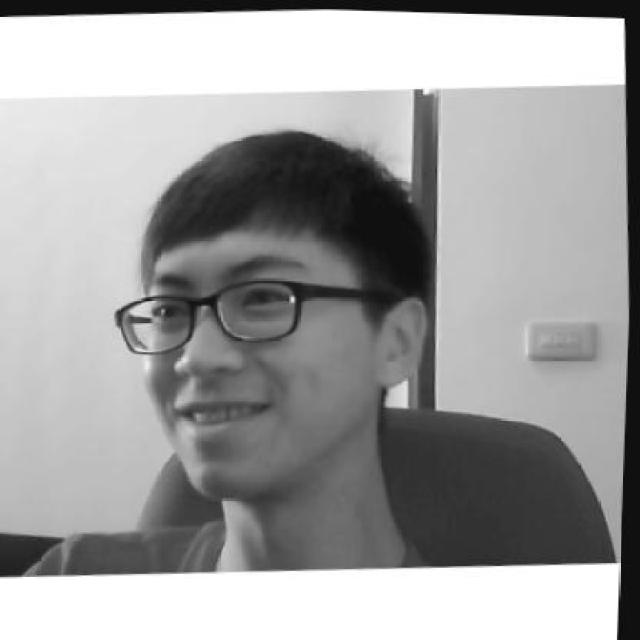attentif: (102, 117, 441, 506)
